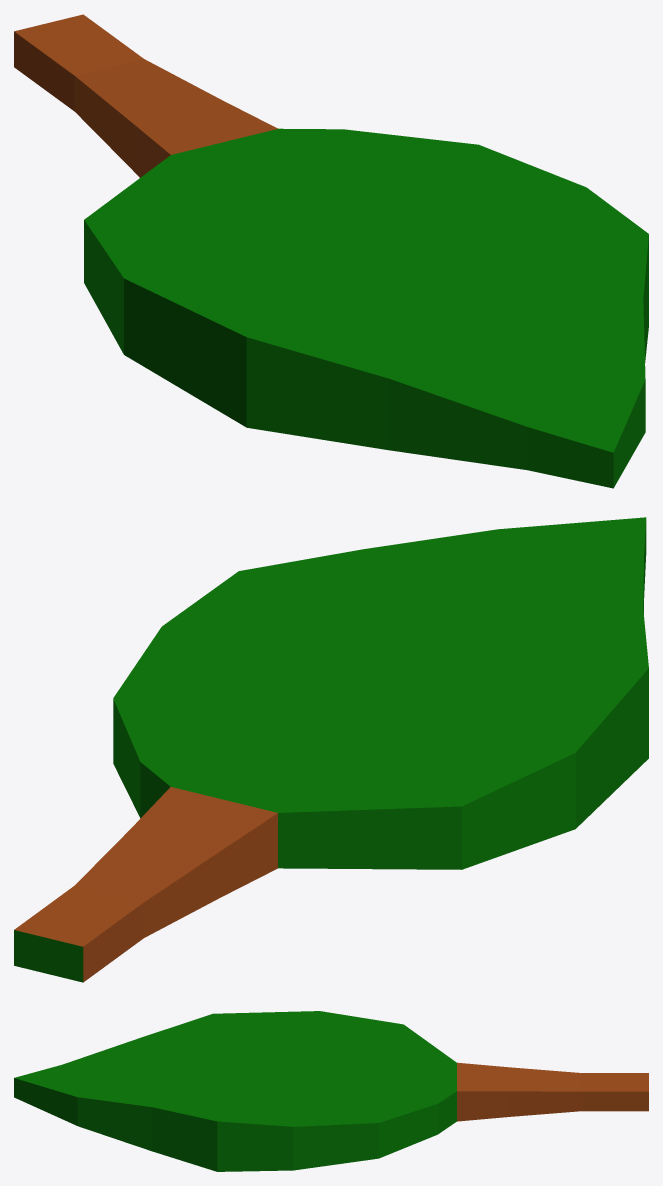
The model's file is yaprak_1.fbx.
3 renders of one model, top to bottom at view 1: azimuth 30°, elevation 25°; view 2: azimuth 150°, elevation 25°; view 3: azimuth 270°, elevation 25°, orthographic. The views are drawn at different scales.
Visible parts, largest first — view 1: Cube.001; view 2: Cube.001; view 3: Cube.001.
Boxes of the visible parts, x1,y1,x2,y2 form: Cube.001: (14, 14, 648, 488); Cube.001: (14, 517, 648, 982); Cube.001: (14, 1011, 648, 1171).
Size of the model in its own units: 0.182 by 0.0367 by 0.4182.
